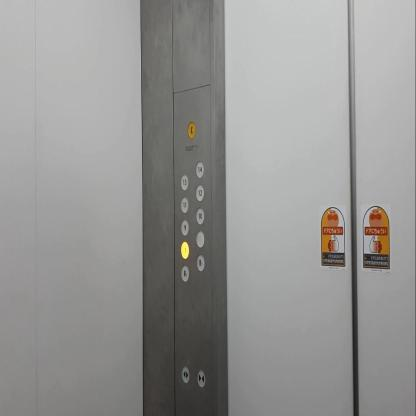1: (179, 239, 190, 260)
10: (194, 205, 206, 226)
11: (179, 194, 190, 215)
12: (194, 182, 206, 203)
13: (178, 170, 190, 192)
14: (194, 158, 205, 178)
9: (179, 216, 190, 236)
B1: (195, 252, 205, 272)
B2: (179, 262, 190, 283)
call: (186, 118, 197, 140)
close: (196, 368, 206, 388)
empty: (194, 228, 206, 249)
open: (180, 363, 190, 384)
